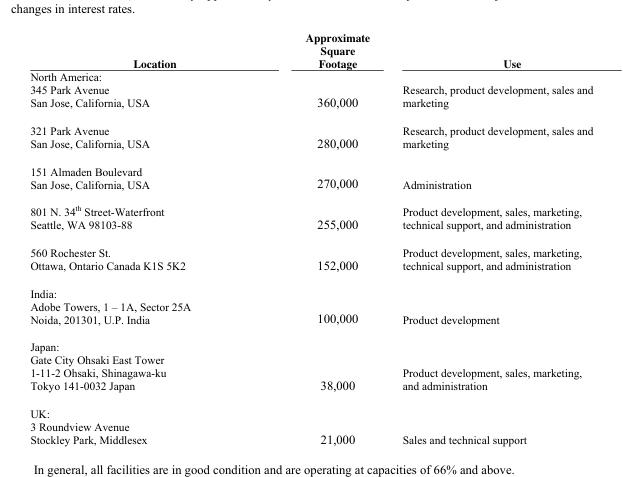table: (29, 28, 592, 445)
table column: (29, 28, 247, 445), (385, 28, 592, 445), (247, 28, 385, 445)
table column header: (29, 28, 592, 70)
table projected row header: (29, 278, 592, 299), (29, 332, 592, 352), (29, 399, 592, 419), (29, 70, 592, 82)
table row: (29, 352, 592, 399), (29, 28, 592, 70), (29, 196, 592, 238), (29, 116, 592, 156), (29, 156, 592, 196), (29, 238, 592, 278), (29, 82, 592, 116), (29, 299, 592, 332), (29, 419, 592, 445), (29, 278, 592, 299), (29, 332, 592, 352), (29, 399, 592, 419), (29, 70, 592, 82)
